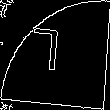L_S: (38, 28, 72, 82)
